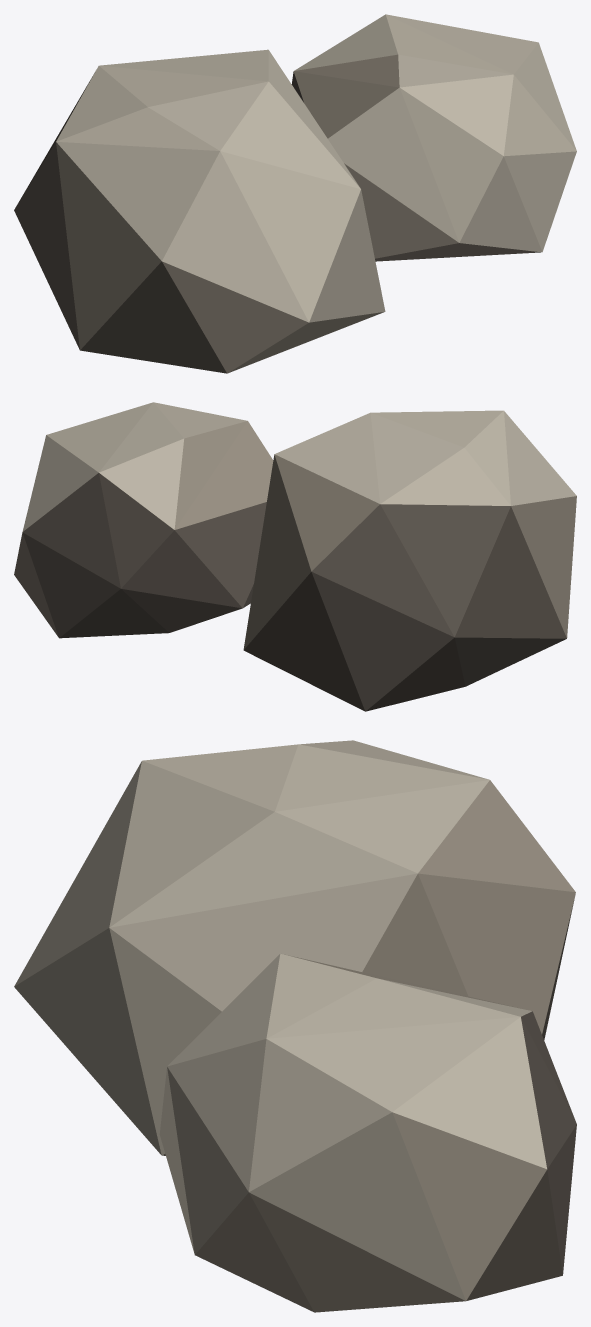
Rendered from stone_mediumPair.glb.
3 views of the same model, one above another, from view 1: azimuth 30°, elevation 25°; view 2: azimuth 150°, elevation 25°; view 3: azimuth 270°, elevation 25° (orthographic). The views are drawn at different scales.
Parts seen in each view (by area): view 1: stone_mediumPair.002; view 2: stone_mediumPair.002; view 3: stone_mediumPair.002.
Boxes of the visible parts, left/top/right/bottom form: stone_mediumPair.002: left=14, top=14, right=576, bottom=373; stone_mediumPair.002: left=14, top=402, right=576, bottom=711; stone_mediumPair.002: left=14, top=740, right=576, bottom=1312.
Size of the model in its own units: 0.5 by 0.2147 by 0.3441.
